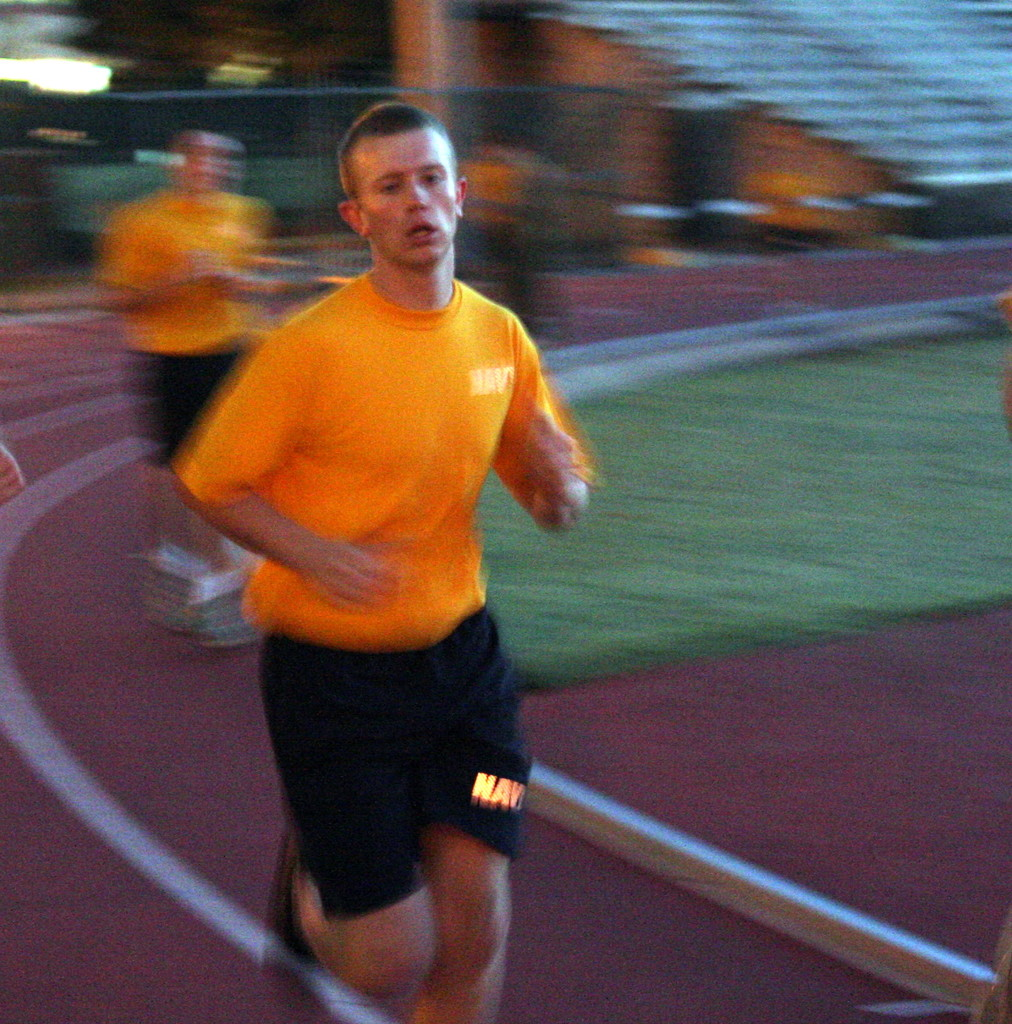person: (94, 125, 280, 640)
